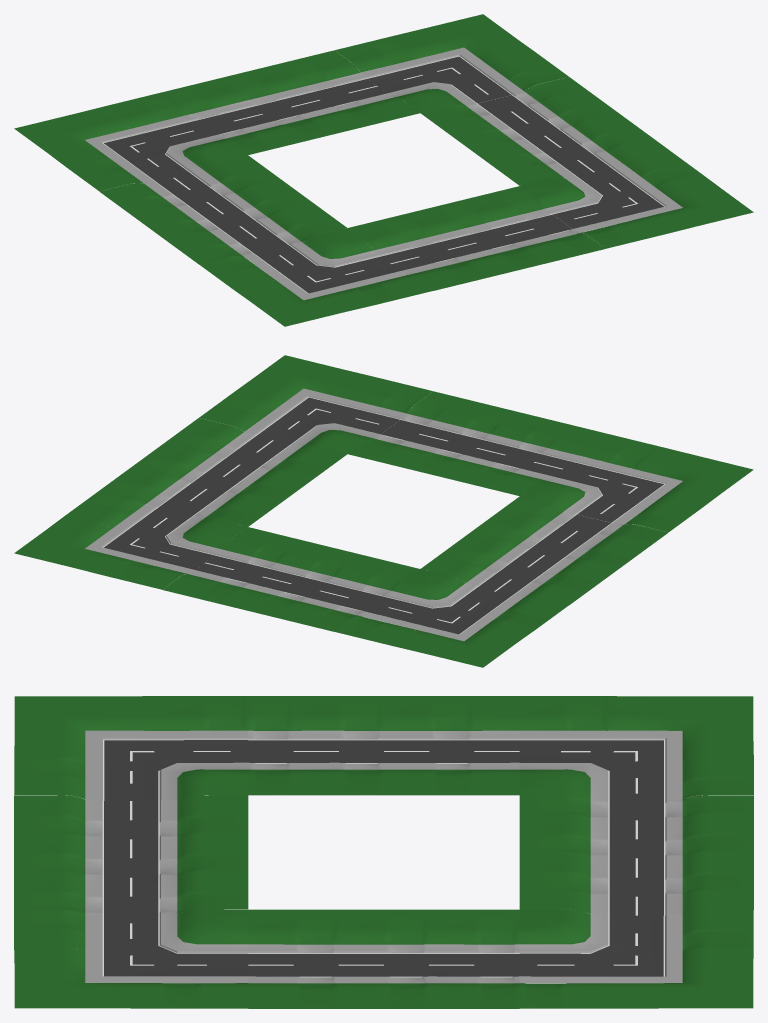
Rendered from Enviroment-1.fbx.
The picture shows the model from 3 angles, top to bottom: view 1: azimuth 30°, elevation 25°; view 2: azimuth 150°, elevation 25°; view 3: azimuth 270°, elevation 25°; orthographic projection. The views are drawn at different scales.
Visible parts, largest first — view 1: Plane.002, Plane.001, Plane, Plane.005, Plane.004, Plane.007, Plane.003, Plane.006; view 2: Plane.002, Plane.001, Plane, Plane.005, Plane.003, Plane.006, Plane.004, Plane.007; view 3: Plane, Plane.005, Plane.002, Plane.001, Plane.007, Plane.006, Plane.003, Plane.004.
Boxes of the visible parts, bbox=[...] form: Plane.002: bbox=[348, 186, 605, 290]; Plane.001: bbox=[162, 50, 419, 154]; Plane: bbox=[420, 77, 668, 185]; Plane.005: bbox=[99, 155, 346, 264]; Plane.004: bbox=[335, 14, 568, 112]; Plane.007: bbox=[14, 92, 247, 191]; Plane.003: bbox=[520, 149, 753, 248]; Plane.006: bbox=[199, 228, 432, 326]; Plane.002: bbox=[348, 391, 605, 496]; Plane.001: bbox=[162, 527, 419, 631]; Plane: bbox=[100, 418, 347, 526]; Plane.005: bbox=[421, 496, 668, 605]; Plane.003: bbox=[199, 355, 432, 453]; Plane.006: bbox=[520, 433, 753, 532]; Plane.004: bbox=[14, 490, 247, 589]; Plane.007: bbox=[335, 569, 568, 667]; Plane: bbox=[248, 909, 519, 1008]; Plane.005: bbox=[248, 696, 519, 795]; Plane.002: bbox=[14, 795, 248, 915]; Plane.001: bbox=[519, 795, 753, 915]; Plane.007: bbox=[519, 696, 753, 800]; Plane.006: bbox=[14, 696, 248, 800]; Plane.003: bbox=[14, 909, 248, 1008]; Plane.004: bbox=[519, 909, 753, 1008].
Bounding box in the file's own units: 15515 × 189 × 15515.
